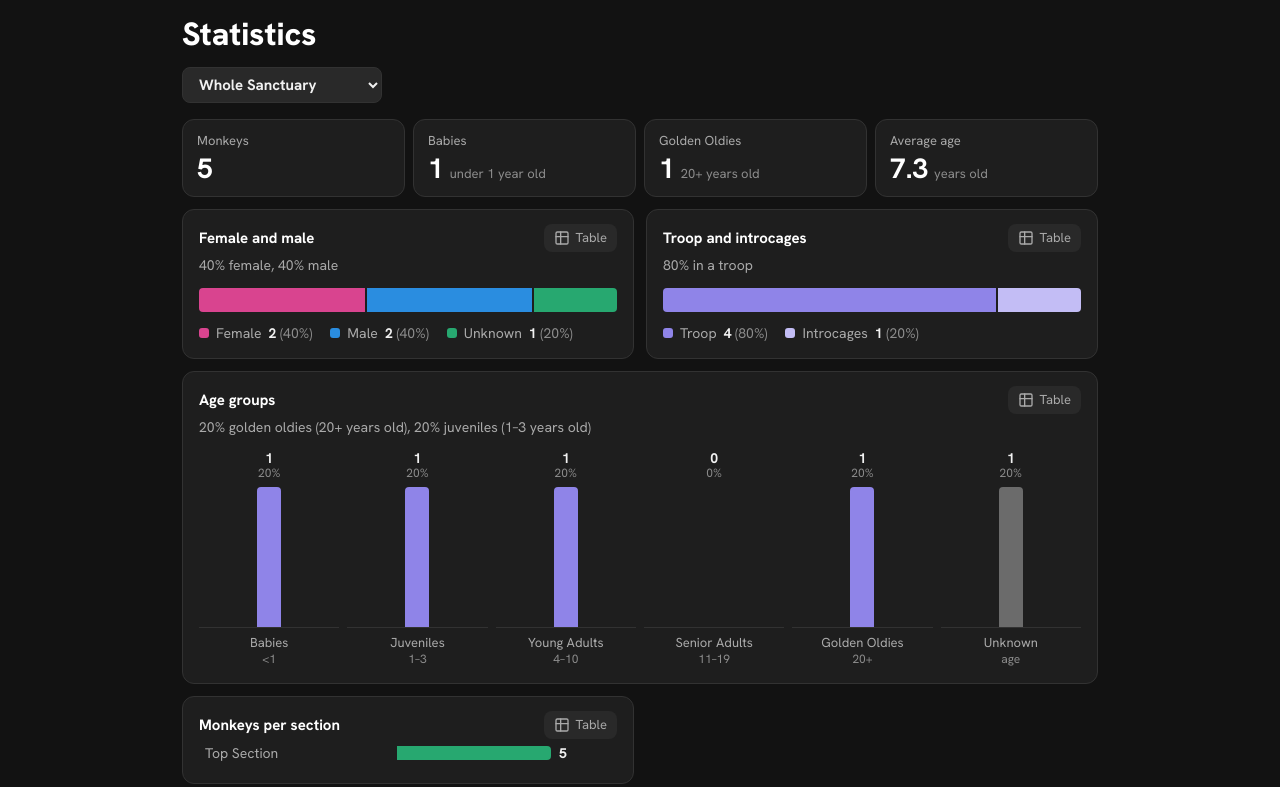
it: the page › each chart has a Table view with the same numbers
What coordinates should you click on to do the following:
click the button "Table" in the row of "Female and male"
I would click on:
 (581, 238)
Its box is [544,224,617,252].
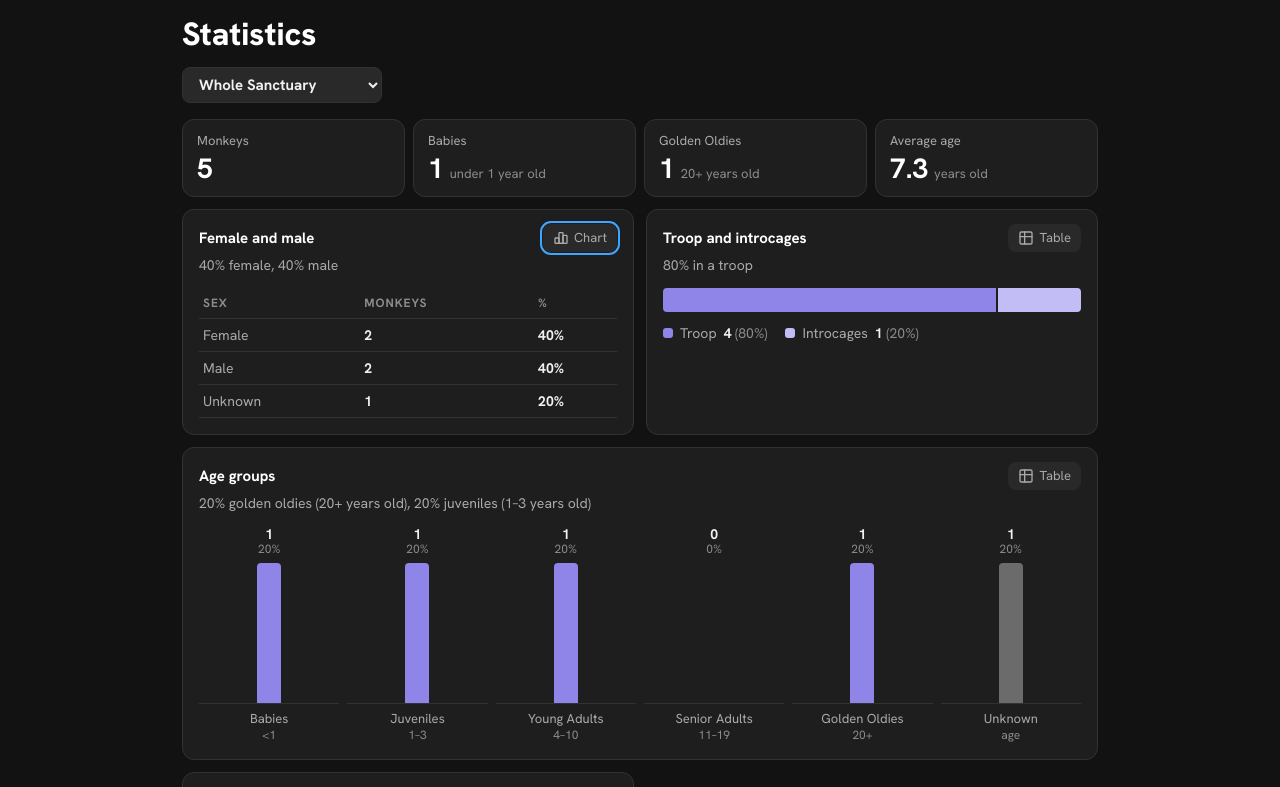
Expected: the rows read "SexMonkeys%", "Female240%", "Male240%", "Unknown120%", in this order, [199,288,617,318]; [199,318,617,351]; [199,351,617,384]; [199,384,617,417]
